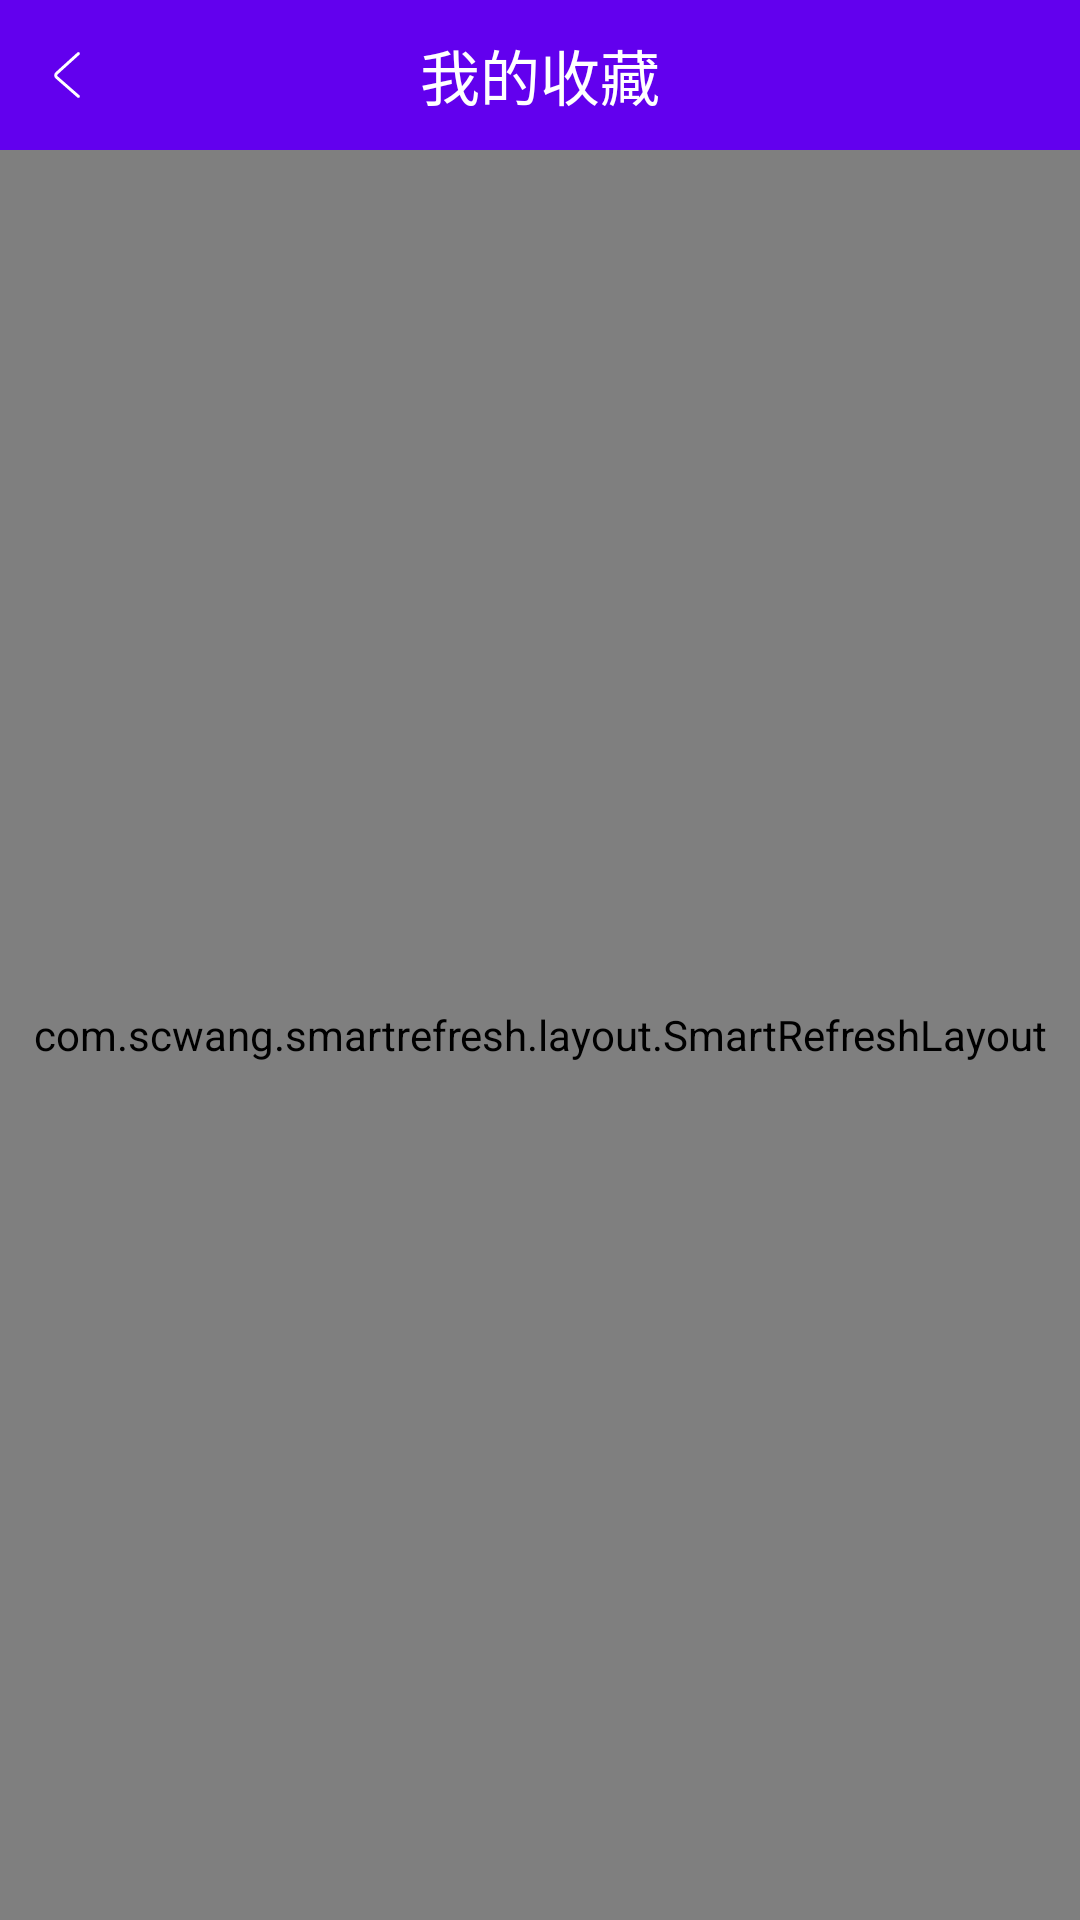

Locate icon controls on the screen. Image size 1080px x 1920px, boxes as [x1, y1, x2, y2].
title back: [54, 52, 80, 98]
